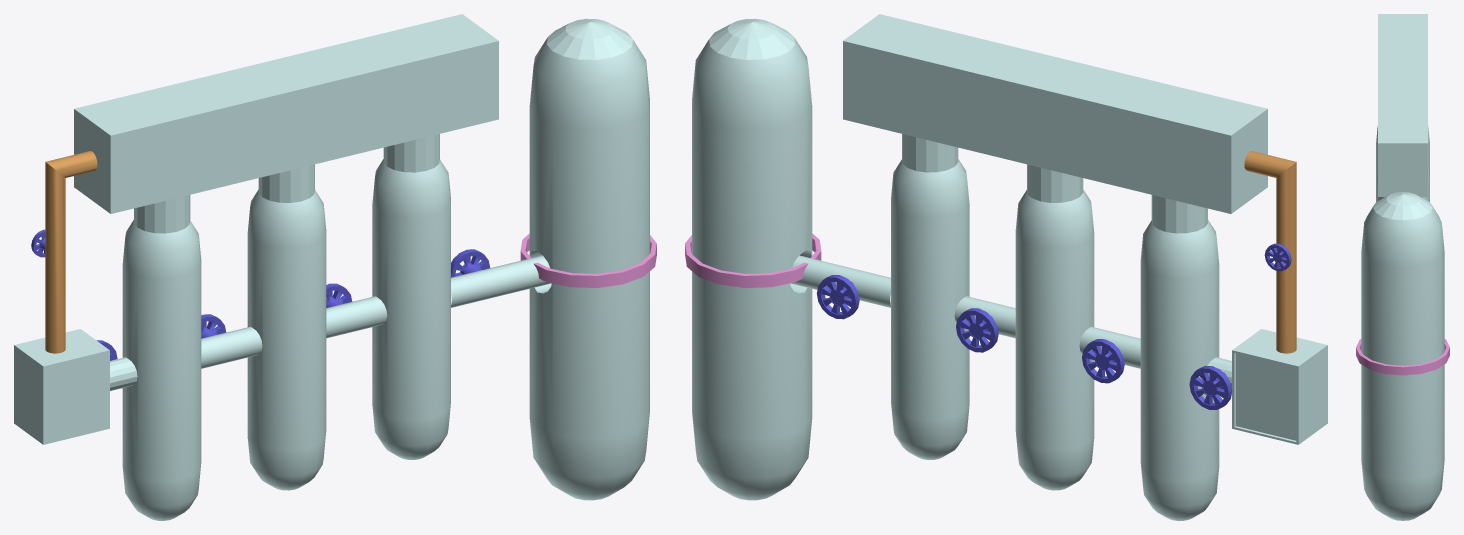
The model's file is Agua.glb.
3 views of the same model, side by side, from view 1: azimuth 30°, elevation 25°; view 2: azimuth 150°, elevation 25°; view 3: azimuth 270°, elevation 25° (orthographic). The views are drawn at different scales.
Visible parts, largest first — view 1: Sphere001, Box002, Box001, Rectangle001, Tube001, Object003; view 2: Sphere001, Box002, Box001, Rectangle001, Tube001, EditableMesh, Object005, Object004, Object003; view 3: Sphere001, Box002, Tube001.
Boxes of the visible parts, <box> form: Sphere001: <box>110,18,649,520</box>; Box002: <box>74,14,498,213</box>; Box001: <box>14,329,109,444</box>; Rectangle001: <box>45,151,97,353</box>; Tube001: <box>520,233,656,287</box>; Object003: <box>451,249,490,277</box>; Sphere001: <box>692,18,1231,520</box>; Box002: <box>843,14,1267,213</box>; Box001: <box>1232,329,1327,444</box>; Rectangle001: <box>1244,151,1296,353</box>; Tube001: <box>685,233,821,287</box>; EditableMesh: <box>956,308,998,352</box>; Object005: <box>1189,365,1232,409</box>; Object004: <box>1082,339,1124,383</box>; Object003: <box>816,275,859,319</box>; Sphere001: <box>1361,126,1444,520</box>; Box002: <box>1378,14,1427,196</box>; Tube001: <box>1356,339,1449,375</box>.
Size of the model in its own units: 8.9 by 6.79 by 1.71.
